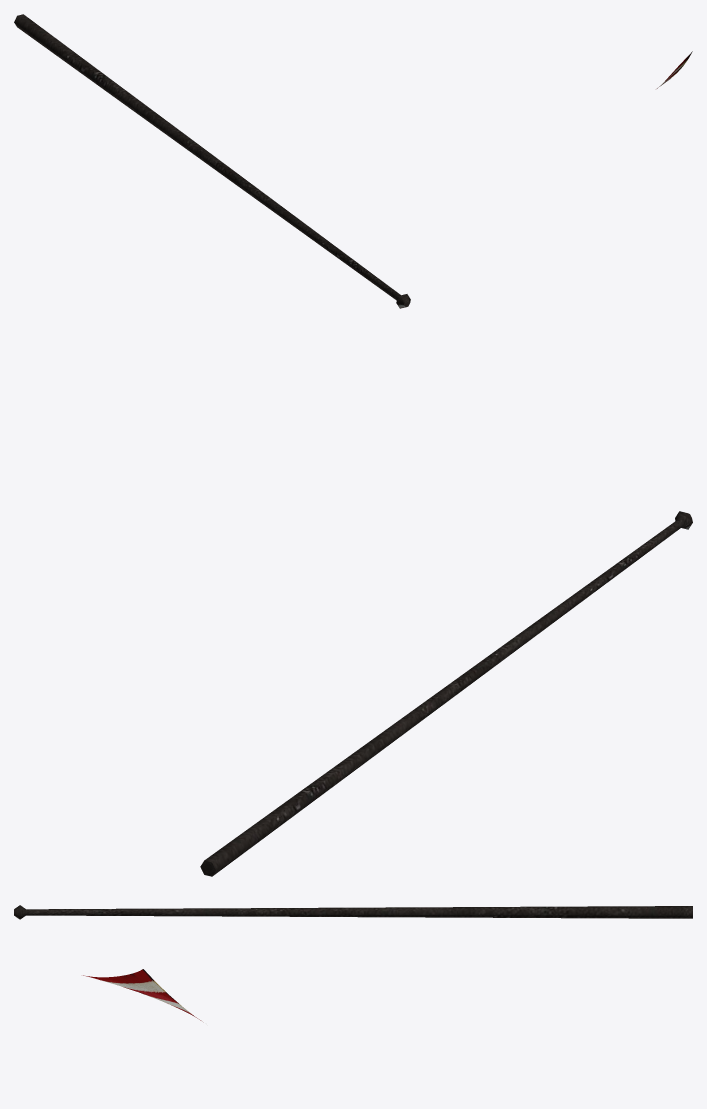
Rendered from prop_flag_american.glb.
3 renders of one model, top to bottom at view 1: azimuth 30°, elevation 25°; view 2: azimuth 150°, elevation 25°; view 3: azimuth 270°, elevation 25°, orthographic. The views are drawn at different scales.
Bounding box in the file's own units: 54.75 × 22.02 × 97.19.
1 material, 1 textured.
